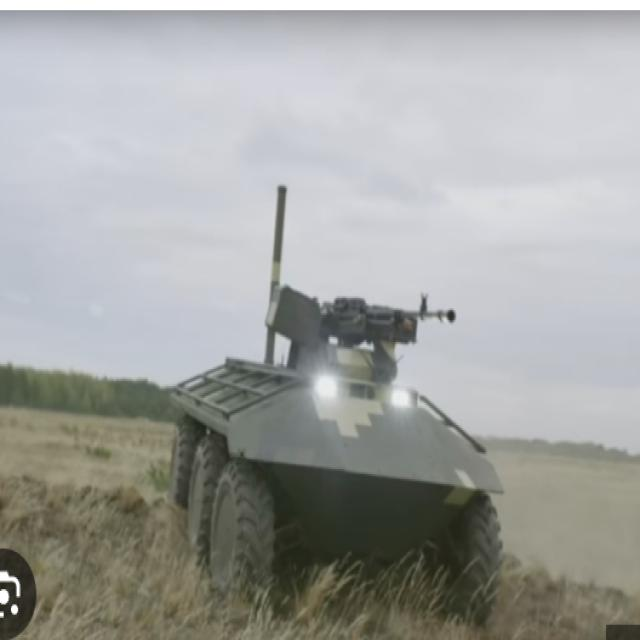MIL_APC: (165, 258, 533, 614)
